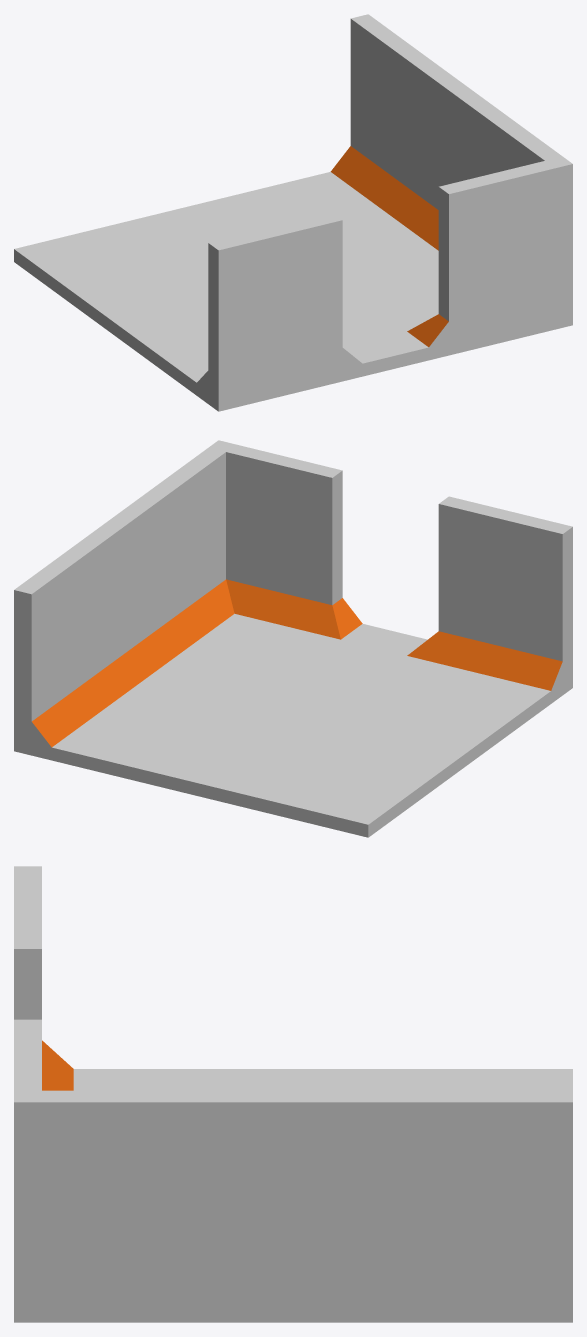
The model's file is 2-wall-1-Door-L-L.fbx.
The picture shows the model from 3 angles, top to bottom: view 1: azimuth 30°, elevation 25°; view 2: azimuth 150°, elevation 25°; view 3: azimuth 270°, elevation 25°; orthographic projection. The views are drawn at different scales.
Parts seen in each view (by area): view 1: Плоскость.023; view 2: Плоскость.023; view 3: Плоскость.023.
Part boxes in pixels (bbox=[...]): Плоскость.023: bbox=[14, 14, 572, 411]; Плоскость.023: bbox=[14, 440, 572, 837]; Плоскость.023: bbox=[14, 866, 572, 1322].
Size of the model in its own units: 200 by 87 by 200.
